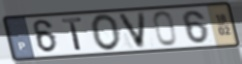0: (151, 10, 181, 49)
6: (181, 9, 211, 45), (31, 19, 59, 55)
O: (90, 13, 123, 52)
T: (60, 16, 85, 53)
V: (116, 11, 148, 50)
